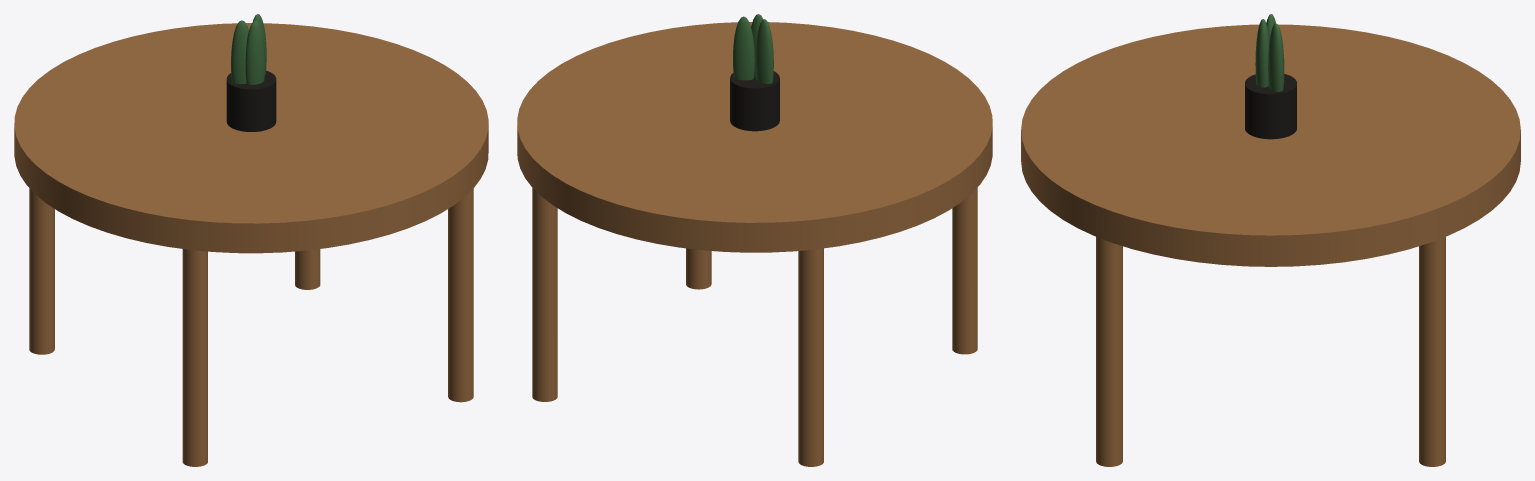
File: dining-table.glb
3 renders of one model, left to right at view 1: azimuth 30°, elevation 25°; view 2: azimuth 150°, elevation 25°; view 3: azimuth 270°, elevation 25°, orthographic. The views are drawn at different scales.
Visible parts, largest first — view 1: CANONICAL round table top, CANONICAL table leg 2, CANONICAL table leg 3, CANONICAL table leg 1, ACCENT planter, ACCENT leaf 3, CANONICAL table leg 4, ACCENT leaf 1; view 2: CANONICAL round table top, CANONICAL table leg 1, CANONICAL table leg 4, CANONICAL table leg 2, ACCENT planter, ACCENT leaf 2, ACCENT leaf 1, CANONICAL table leg 3; view 3: CANONICAL round table top, CANONICAL table leg 3, CANONICAL table leg 4, ACCENT planter, ACCENT leaf 2, ACCENT leaf 3.
Boxes of the visible parts, x1,y1,x2,y2 form: CANONICAL round table top: (14,23,488,253); CANONICAL table leg 2: (182,249,207,466); CANONICAL table leg 3: (448,188,473,402); CANONICAL table leg 1: (29,188,54,354); ACCENT planter: (226,70,276,131); ACCENT leaf 3: (245,20,265,84); CANONICAL table leg 4: (295,249,320,289); ACCENT leaf 1: (231,20,248,84); CANONICAL round table top: (517,22,992,252); CANONICAL table leg 1: (798,248,823,466); CANONICAL table leg 4: (532,188,557,401); CANONICAL table leg 2: (952,188,977,354); ACCENT planter: (730,71,779,131); ACCENT leaf 2: (733,16,754,80); ACCENT leaf 1: (755,19,773,83); CANONICAL table leg 3: (686,248,711,289); CANONICAL round table top: (1021,24,1520,266); CANONICAL table leg 3: (1096,237,1122,466); CANONICAL table leg 4: (1419,237,1445,466); ACCENT planter: (1245,74,1296,139); ACCENT leaf 2: (1268,23,1284,91); ACCENT leaf 3: (1255,19,1269,87).
Size of the model in its own units: 1.3 by 1.07 by 1.3.
